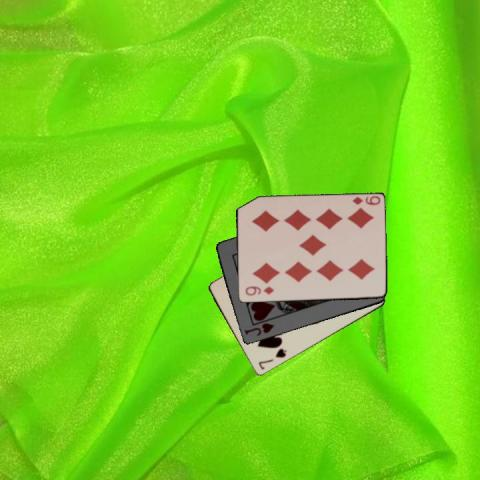7s: (255, 346, 288, 372)
9d: (242, 283, 275, 297), (350, 194, 382, 207)
Jh: (242, 320, 276, 337)
